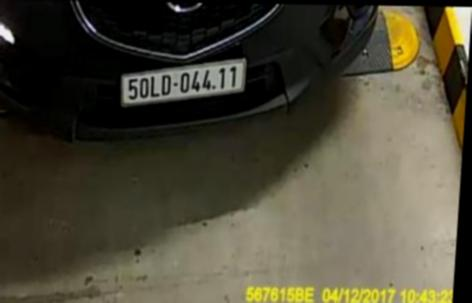License_Plate: (114, 58, 253, 108)
